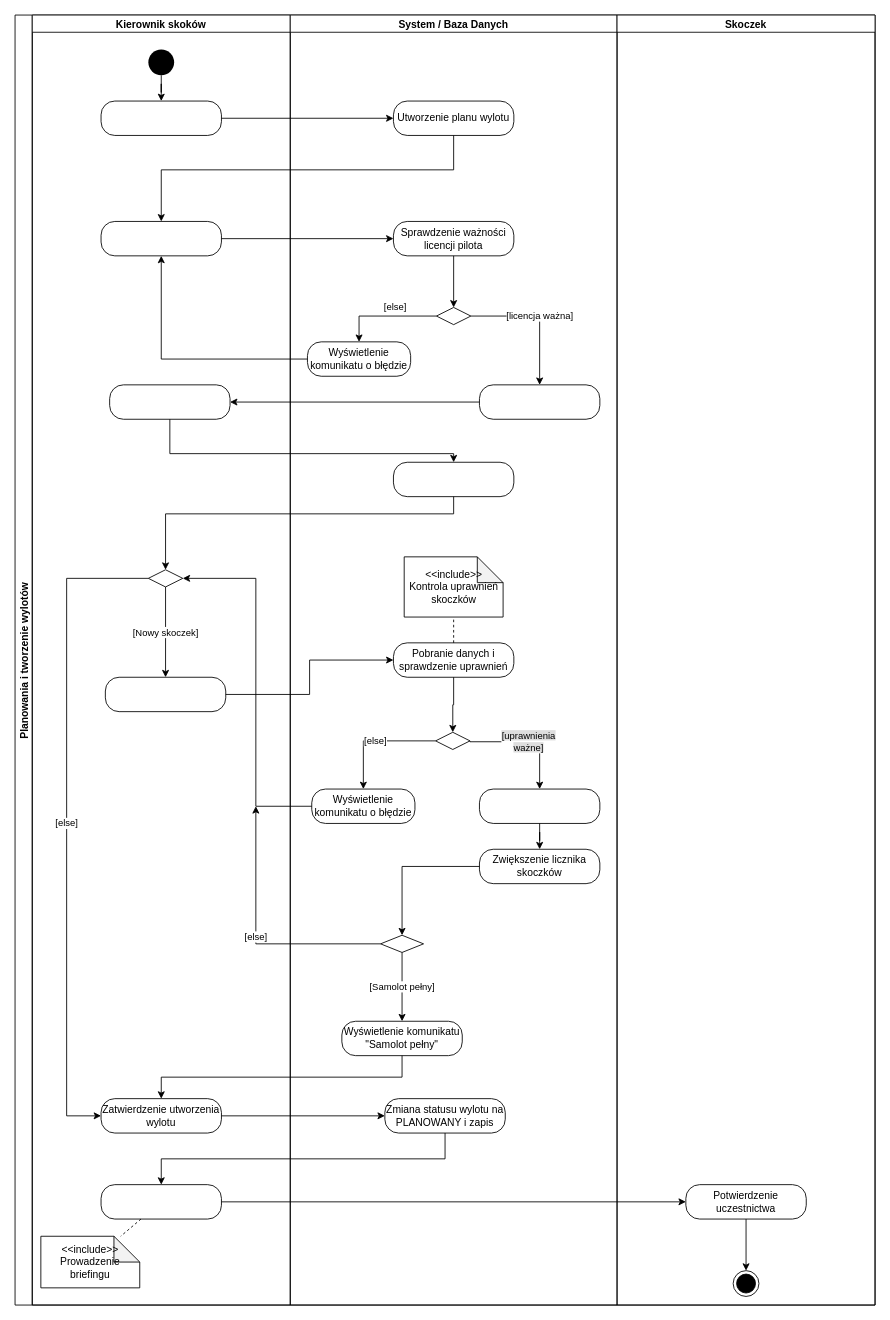
This 890x1320 diagram has some shape labels left out. The shapes that lost their labels are listed below. From the top down, each one's centre as x and y in pixels, then its label:
At point 160,117: "Zaplanowanie nowego wylotu".
At point 160,238: "Wybór pilota i samolotu".
At point 169,401: "Wprowadzenie danych lotu (godzina, trasa)".
At point 539,401: "Pobranie pojemności samolotu".
At point 453,479: "Walidacja danych i zatwierdzenie".
At point 165,694: "Wybór skoczka (idSkoczka)".
At point 539,805: "Przypisanie skoczka do wylotu".
At point 160,1201: "Rozpoczęcie briefingu".
